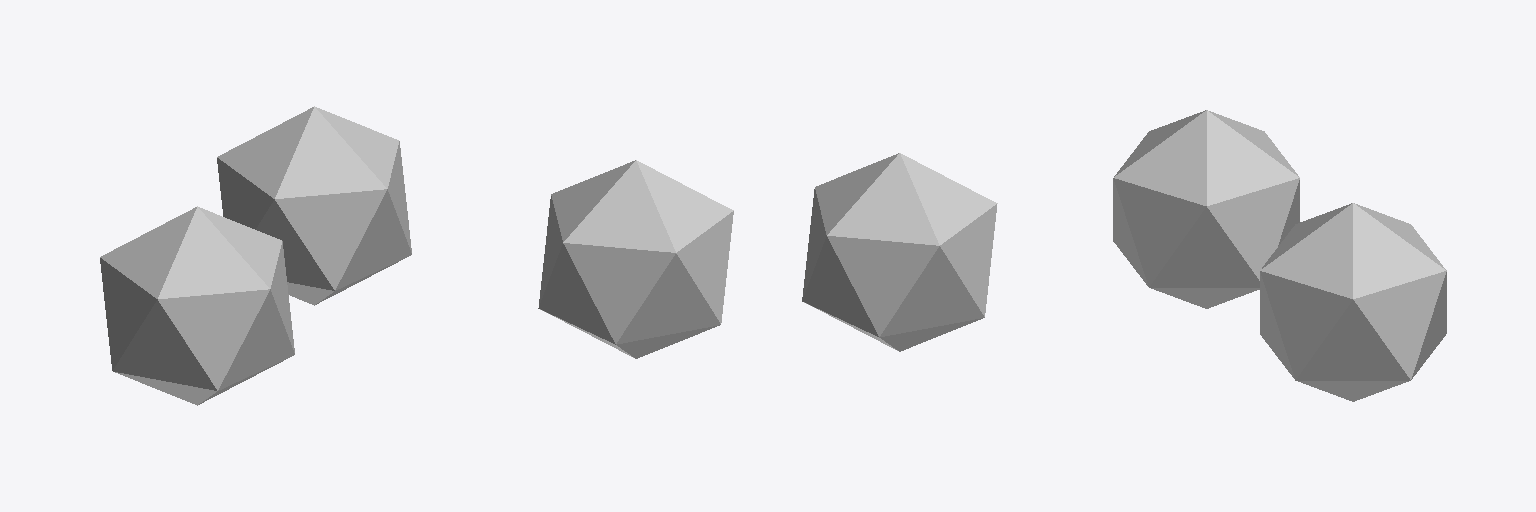
The model's file is eyalSpheres1.obj.
The picture shows the model from 3 angles: view 1: azimuth 30°, elevation 25°; view 2: azimuth 150°, elevation 25°; view 3: azimuth 270°, elevation 25°; orthographic projection.
Parts seen in each view (by area): view 1: Icosphere.003, Icosphere.002; view 2: Icosphere.002, Icosphere.003; view 3: Icosphere.002, Icosphere.003.
Boxes of the visible parts, x1=… form: Icosphere.003: x1=100, y1=206, x2=294, y2=405; Icosphere.002: x1=217, y1=106, x2=411, y2=305; Icosphere.002: x1=538, y1=160, x2=733, y2=358; Icosphere.003: x1=802, y1=153, x2=997, y2=351; Icosphere.002: x1=1260, y1=203, x2=1446, y2=401; Icosphere.003: x1=1113, y1=110, x2=1299, y2=308.
Size of the model in its own units: 1.14 by 0.6 by 0.9104.